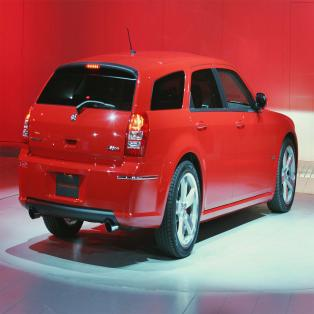Auto: (16, 25, 299, 260)
